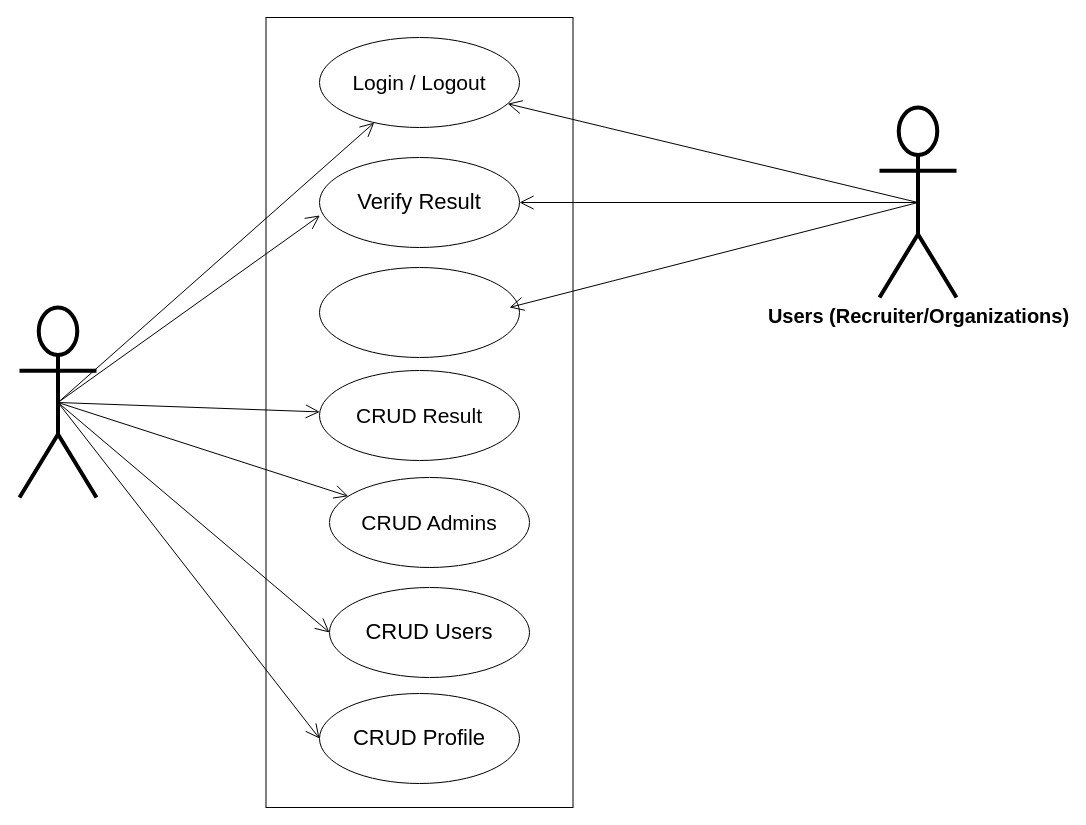
This 1086x825 diagram has some shape labels left out. The shapes that lost their labels are listed below. From the top down, each one's centre as x and y in pixels, then its label:
At [419,312]: "Update Profile".
At [57,402]: "Admin".
